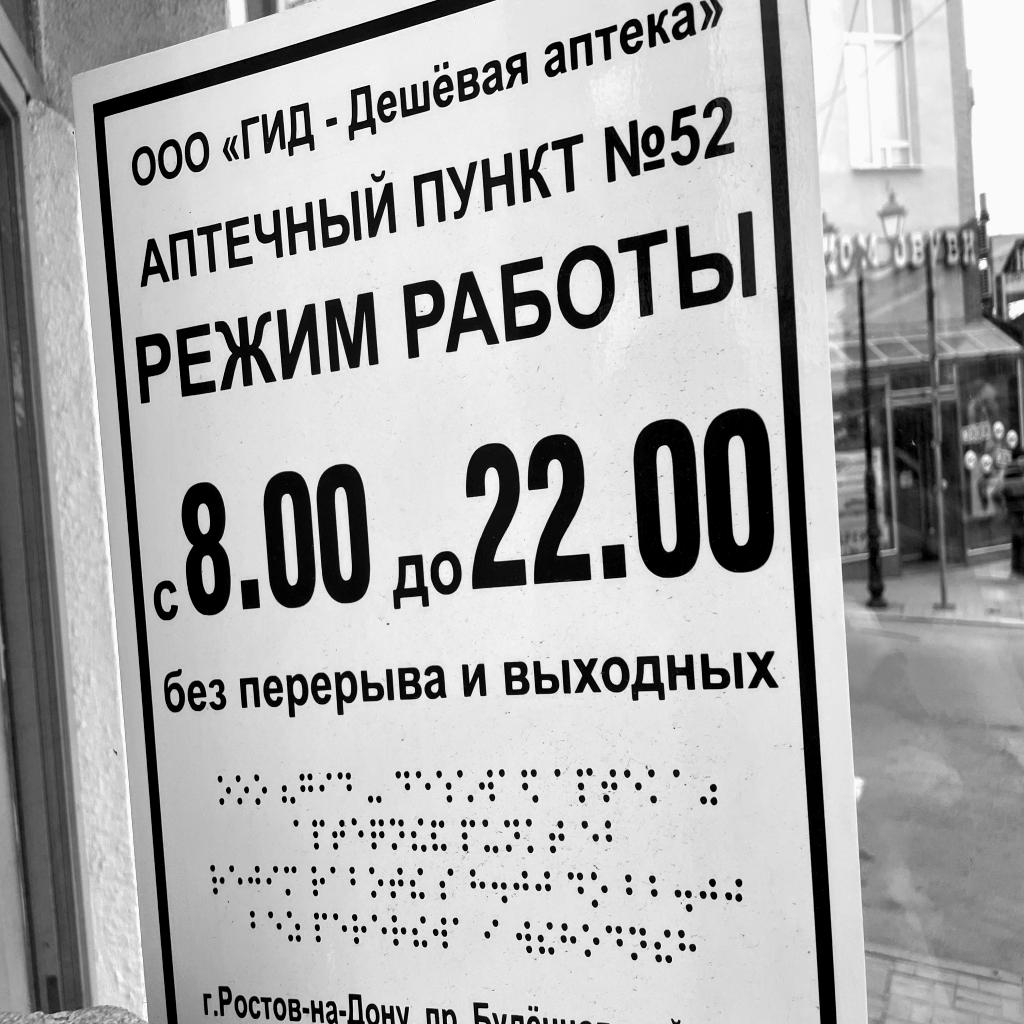_n: (629, 925, 648, 961), (504, 818, 521, 852), (389, 818, 405, 850)
_y: (482, 819, 499, 854)
a: (672, 769, 691, 805), (554, 768, 571, 803), (499, 768, 516, 802), (452, 916, 468, 950), (294, 819, 309, 850), (330, 866, 345, 897)
b: (250, 910, 266, 942), (349, 866, 364, 896)
ch: (370, 818, 384, 850)
d: (567, 871, 585, 907), (605, 924, 623, 960), (395, 770, 410, 803), (337, 771, 352, 803)
defis: (368, 775, 383, 805)
e: (623, 768, 642, 804), (371, 913, 387, 946), (415, 770, 431, 801), (229, 864, 244, 896), (333, 912, 348, 944), (268, 911, 282, 942), (351, 817, 364, 849)
g: (298, 773, 314, 804)
gh: (247, 865, 261, 896)
i: (484, 919, 499, 952), (266, 865, 279, 897), (319, 773, 332, 804)
iKratkoe: (430, 819, 447, 852)
ii: (653, 928, 673, 964), (537, 922, 555, 956), (411, 817, 427, 852), (412, 915, 428, 948), (410, 869, 425, 900)
k: (648, 768, 667, 804), (526, 818, 543, 854)
kavichki1: (281, 774, 296, 805)
kavichki2: (700, 769, 717, 805)
m: (284, 866, 298, 896)
o: (591, 871, 608, 908), (582, 924, 600, 958), (369, 867, 384, 898), (217, 775, 232, 804), (235, 776, 250, 805), (254, 774, 268, 805)
p: (577, 768, 594, 804), (461, 819, 476, 852), (311, 819, 325, 851), (314, 913, 327, 944)
r: (391, 914, 407, 947), (210, 864, 226, 896), (352, 913, 368, 945), (311, 866, 326, 897)
s: (439, 869, 453, 900)
sh: (436, 769, 452, 803)
t: (601, 768, 618, 803), (548, 819, 565, 854), (331, 819, 345, 851), (390, 867, 404, 898)
tochka: (674, 874, 693, 913), (492, 869, 508, 904)
v: (478, 769, 496, 802), (432, 916, 449, 950), (516, 920, 533, 954)
x: (560, 922, 577, 957), (706, 932, 722, 965)
ya: (521, 769, 539, 804)
yo: (457, 770, 474, 803)
z: (287, 911, 302, 943)
